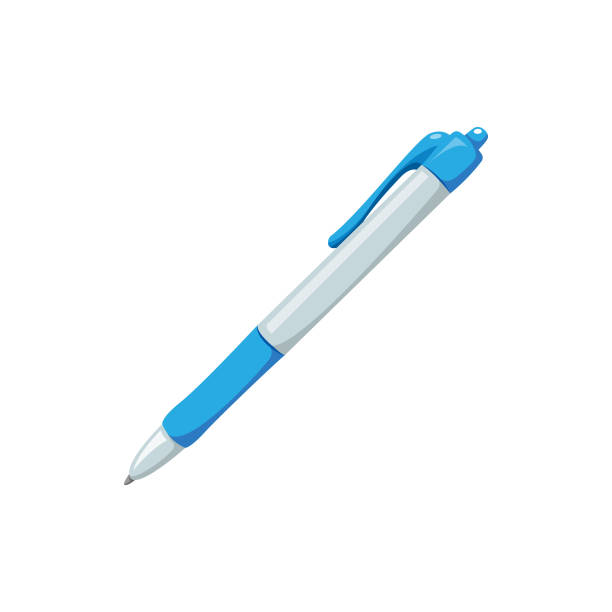pen: (114, 116, 501, 506)
